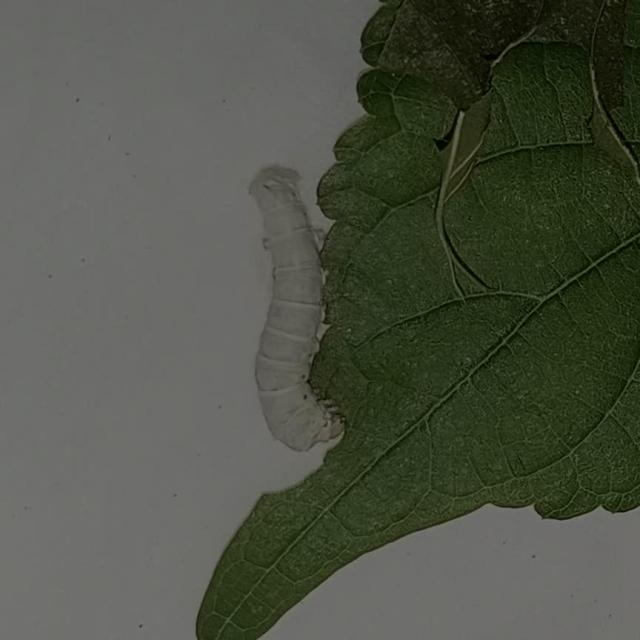Healthy: (214, 119, 425, 478)
